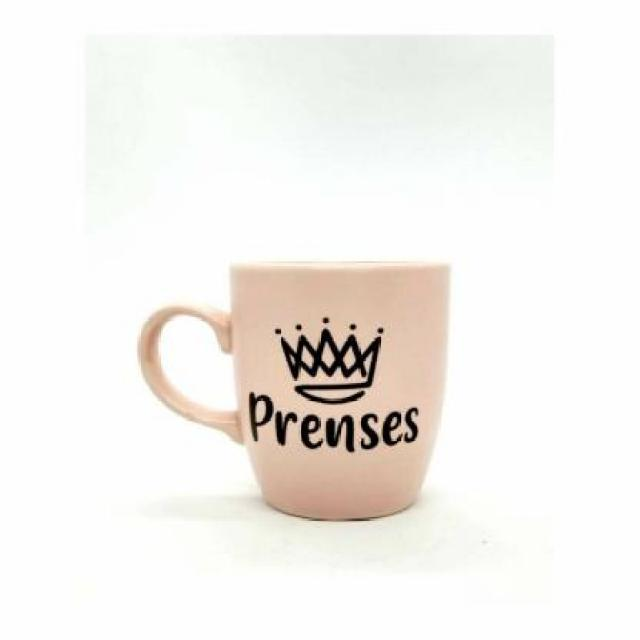taza: (137, 264, 454, 522)
